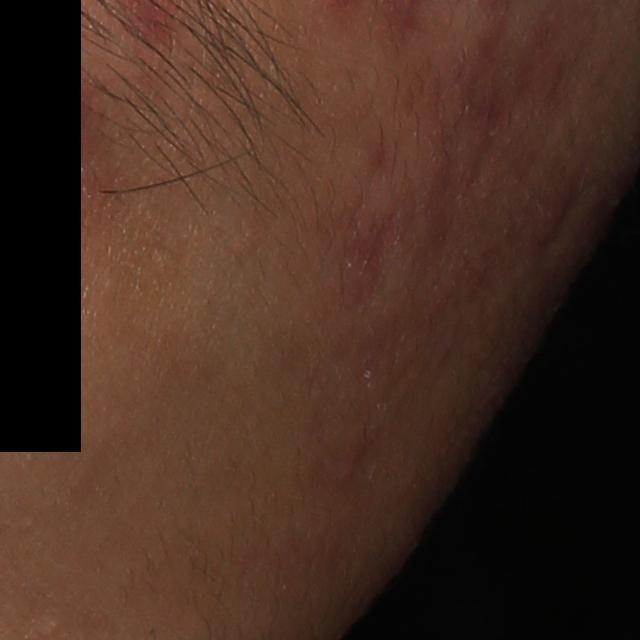comedo: (37, 614, 61, 638)
papule: (525, 175, 580, 248)
